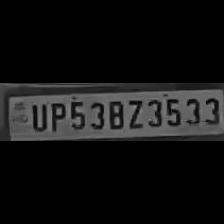3: (202, 94, 222, 125), (87, 98, 105, 130), (144, 96, 162, 128), (183, 95, 201, 125)
5: (66, 98, 86, 130), (162, 96, 182, 127)
B: (105, 98, 124, 130)
P: (46, 99, 66, 131)
U: (26, 100, 48, 132)
Z: (124, 97, 144, 129)
